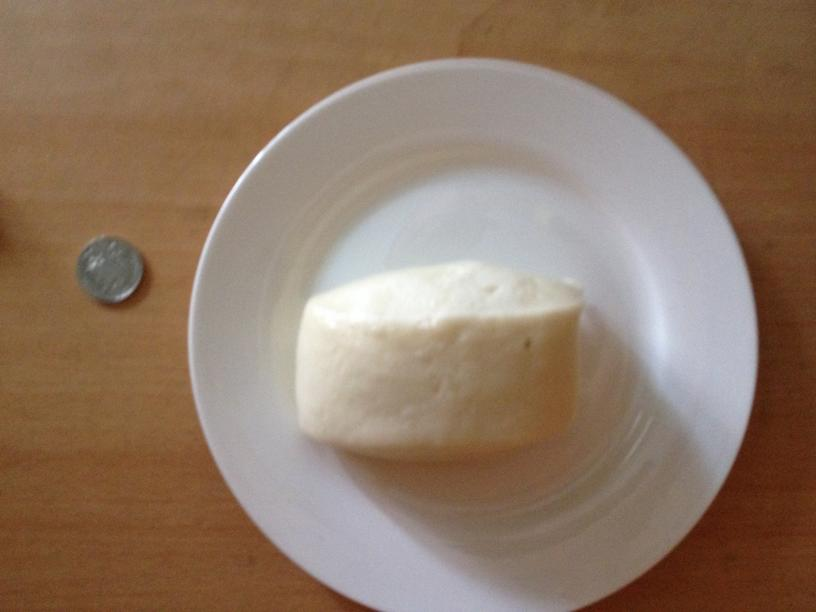bun: (293, 263, 584, 462)
coin: (76, 235, 143, 300)
